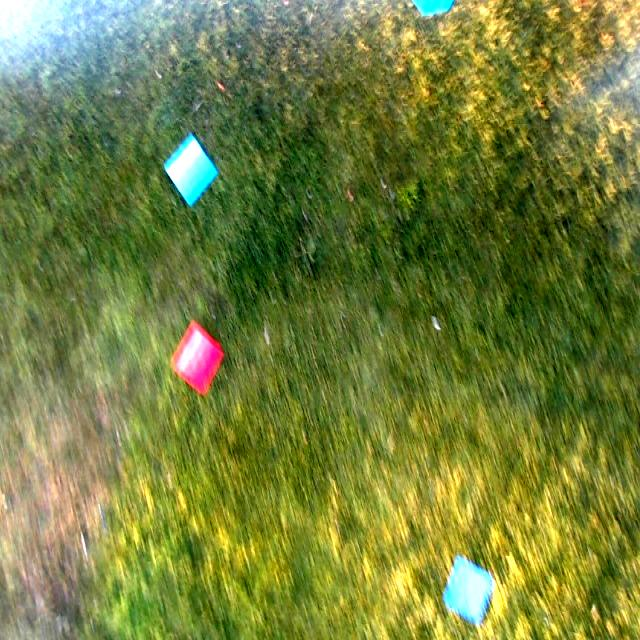blue_square: (166, 134, 218, 206), (442, 556, 494, 622)
red_square: (171, 322, 221, 394)
